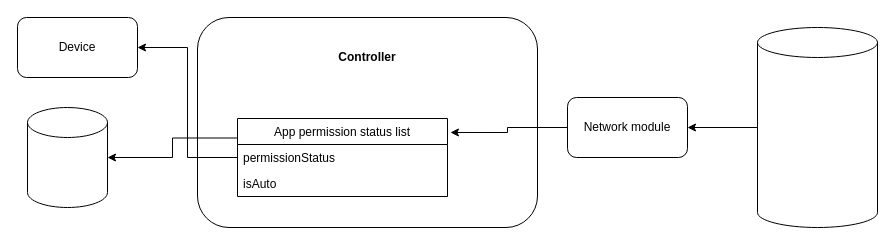
The diagram is 895 pixels wide and 245 high, and some of its shapes have lost their labels. The centre of each missing label's shape, as x and y in pixels:
"Local DB" belongs at (67,157).
"Server" belongs at (817,127).
